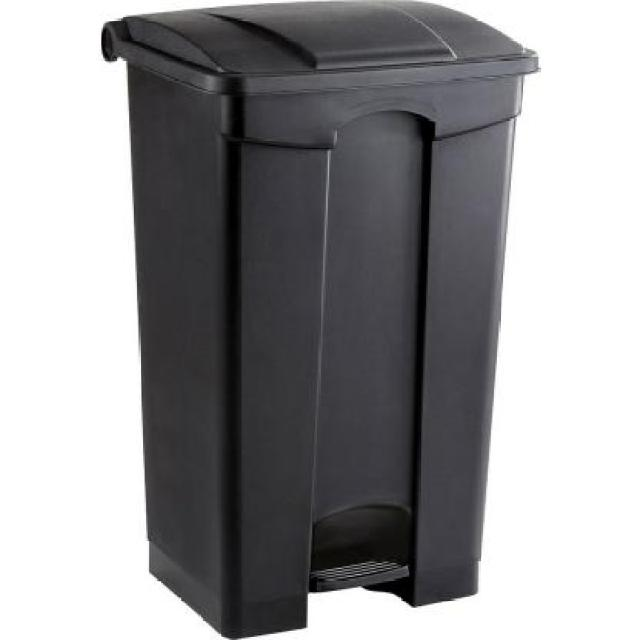garbage container: (89, 1, 552, 639)
